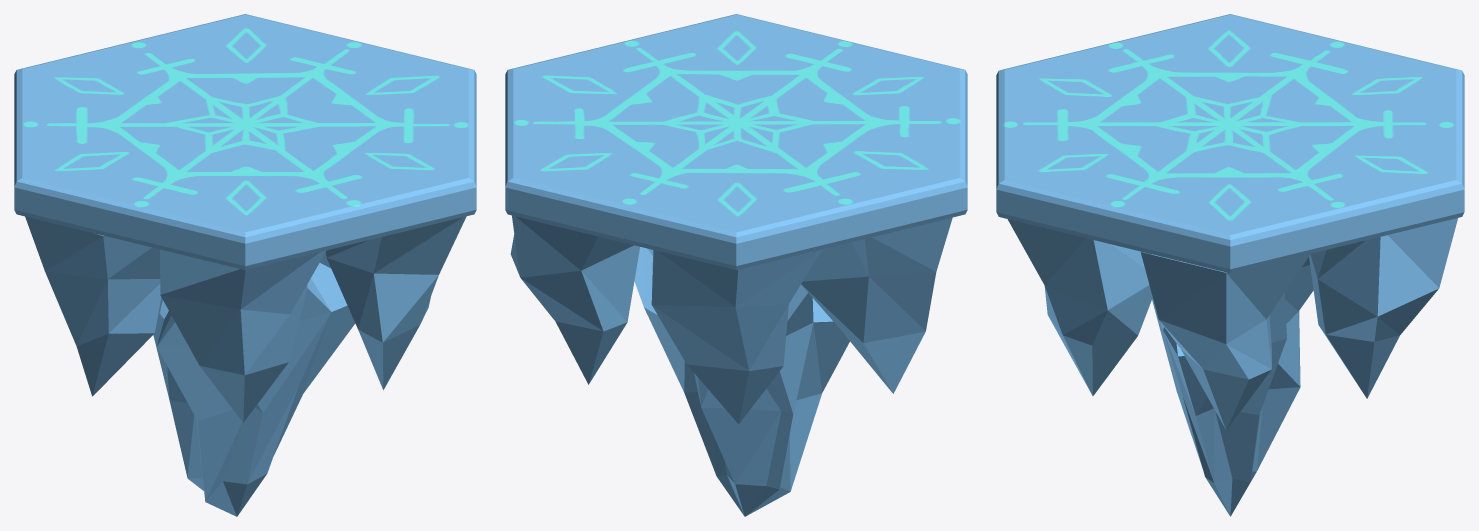
File: connect.fbx
3 renders of one model, left to right at view 1: azimuth 30°, elevation 25°; view 2: azimuth 150°, elevation 25°; view 3: azimuth 270°, elevation 25°, orthographic.
Parts seen in each view (by area): view 1: connect; view 2: connect; view 3: connect.
Part boxes in pixels (x1,y1,x2,y2): connect: [14, 14, 476, 516]; connect: [505, 14, 967, 516]; connect: [996, 14, 1464, 516].
Bounding box in the file's own units: 260 × 210 × 225.
Materials: 1 (1 with a texture image).
